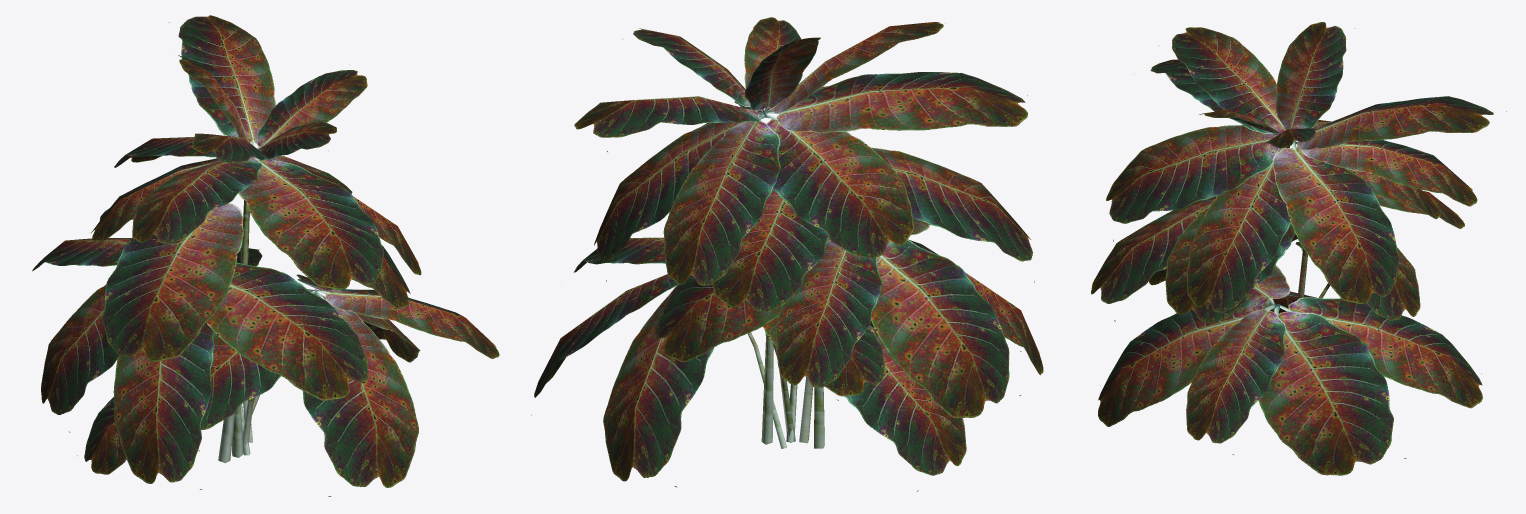
Rendered from m_grass05.fbx.
3 views of the same model, side by side, from view 1: azimuth 30°, elevation 25°; view 2: azimuth 150°, elevation 25°; view 3: azimuth 270°, elevation 25° (orthographic). The views are drawn at different scales.
Visible parts, largest first — view 1: m_grass05; view 2: m_grass05; view 3: m_grass05.
Boxes of the visible parts, x1,y1,x2,y2 form: m_grass05: (32,15,499,496); m_grass05: (531,17,1043,491); m_grass05: (1091,22,1506,475).
Bounding box in the file's own units: 5.34 × 4.75 × 5.01.
